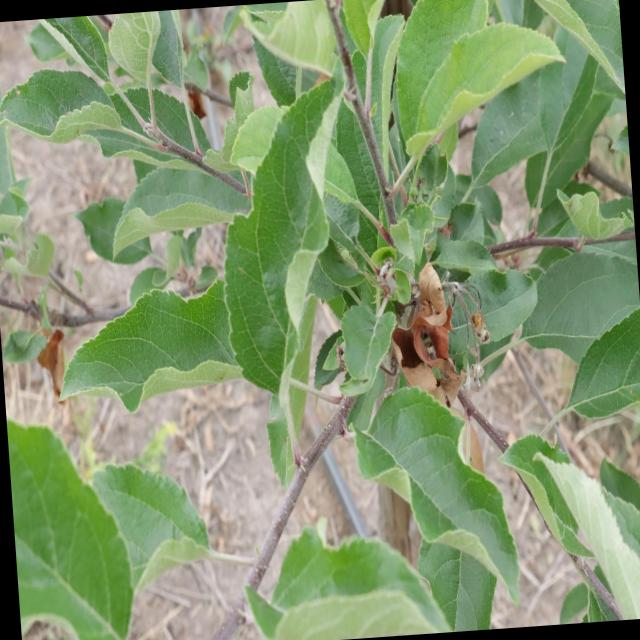-FireBlight-: (383, 249, 473, 401), (27, 328, 78, 392)
